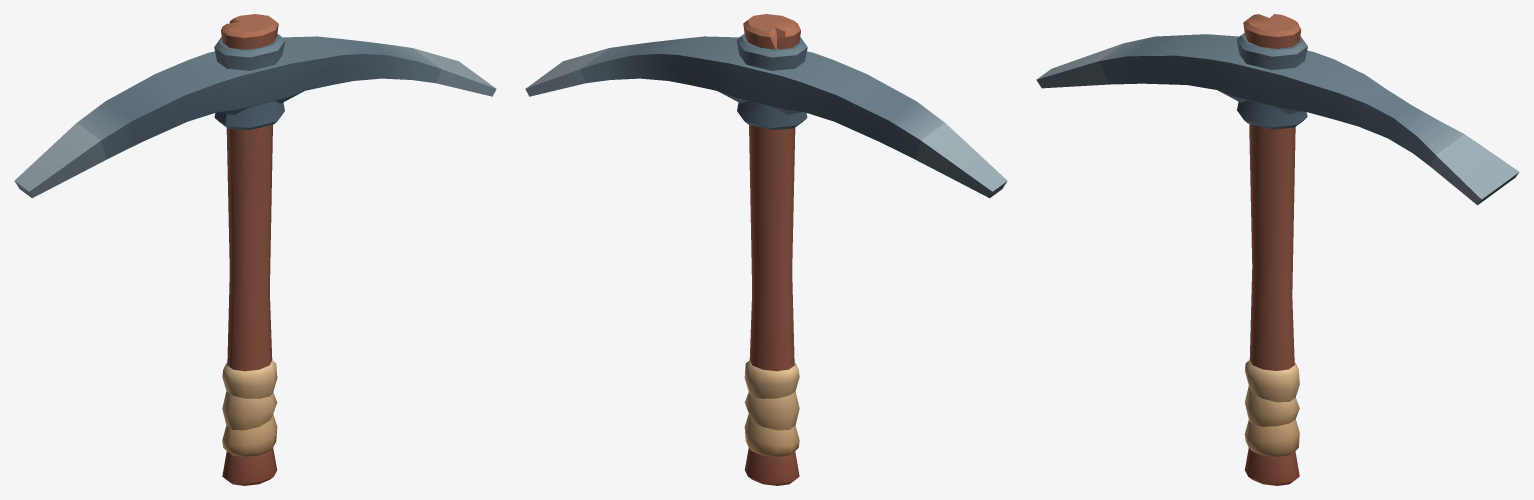
The model's file is pickaxe.glb.
The picture shows the model from 3 angles, left to right: view 1: azimuth 30°, elevation 25°; view 2: azimuth 150°, elevation 25°; view 3: azimuth 330°, elevation 25°; orthographic projection.
Visible parts, largest first — view 1: pickaxe; view 2: pickaxe; view 3: pickaxe.
Boxes of the visible parts, left/top/right/bottom form: pickaxe: left=14, top=14, right=496, bottom=485; pickaxe: left=525, top=14, right=1007, bottom=485; pickaxe: left=1036, top=14, right=1519, bottom=485.
Size of the model in its own units: 1.45 by 1.39 by 0.2085.
Materials: 1 (1 with a texture image).
